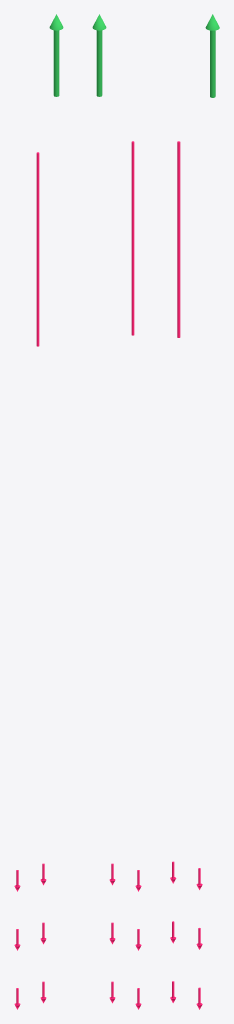
The model's file is vertical_turbine_pump_thrust.glb.
The picture shows the model from 3 angles, left to right: view 1: azimuth 30°, elevation 25°; view 2: azimuth 150°, elevation 25°; view 3: azimuth 330°, elevation 25°; orthographic projection.
Visible parts, largest first — view 1: thrust_arrows; view 2: thrust_arrows; view 3: thrust_arrows.
Part boxes in pixels (x1=…): thrust_arrows: x1=14, y1=14, x2=63, y2=1009; thrust_arrows: x1=92, y1=14, x2=141, y2=1009; thrust_arrows: x1=170, y1=14, x2=219, y2=1009.
Size of the model in its own units: 0.22 by 4.35 by 0.094.
